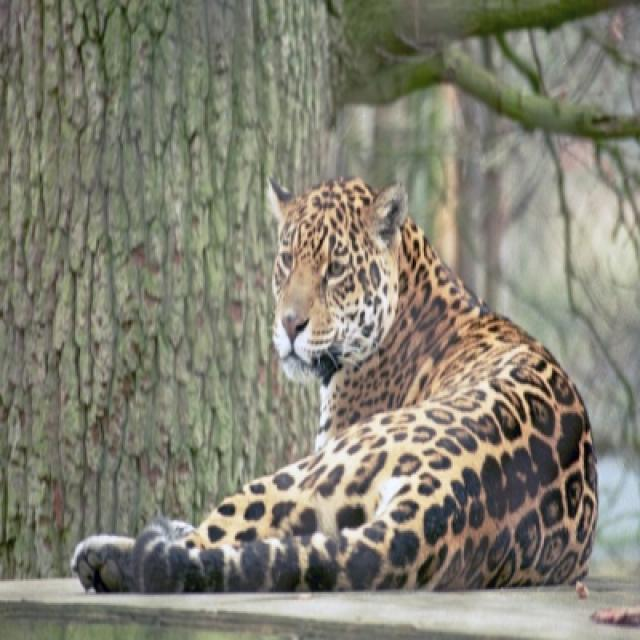Jaguar: (66, 172, 613, 602)
